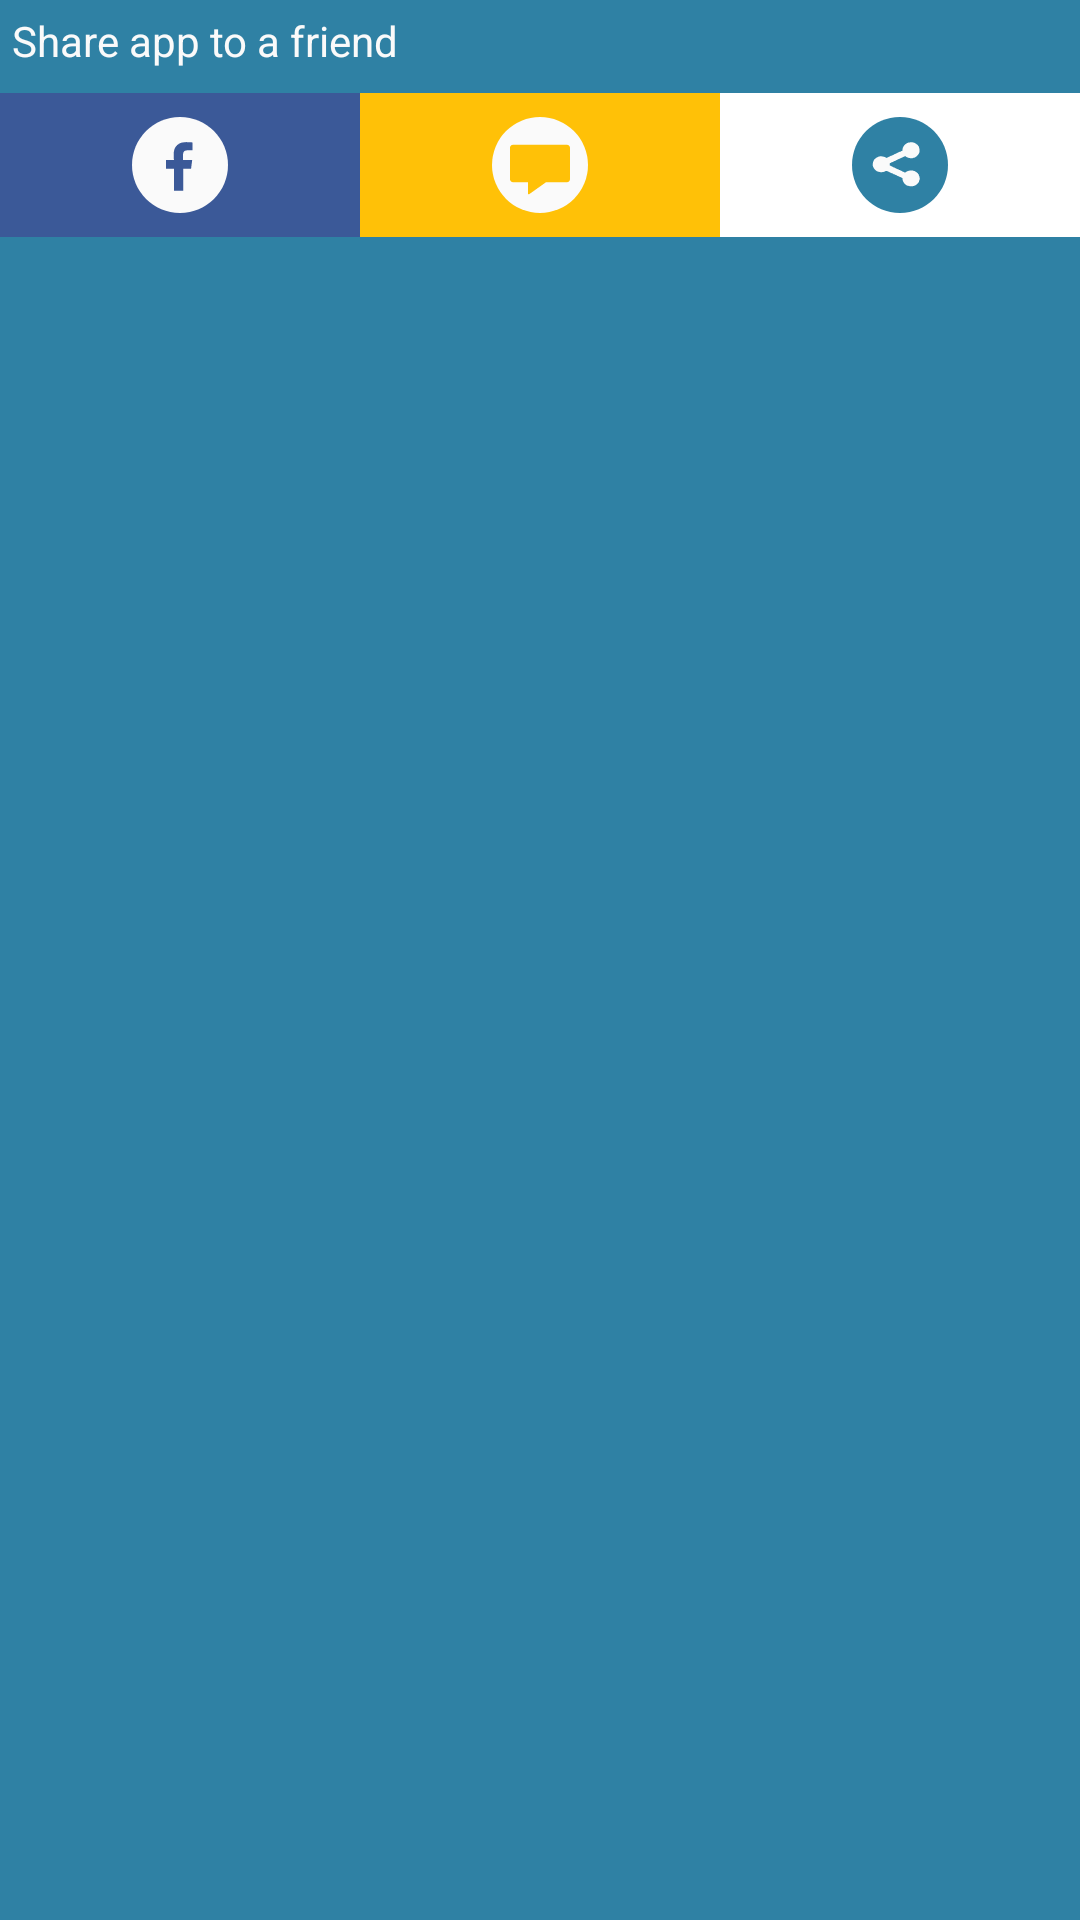

Icon click points for this 1080 × 1920 phone screenshot, format [x,y]:
share app other: [900,165]
share app sms: [540,165]
